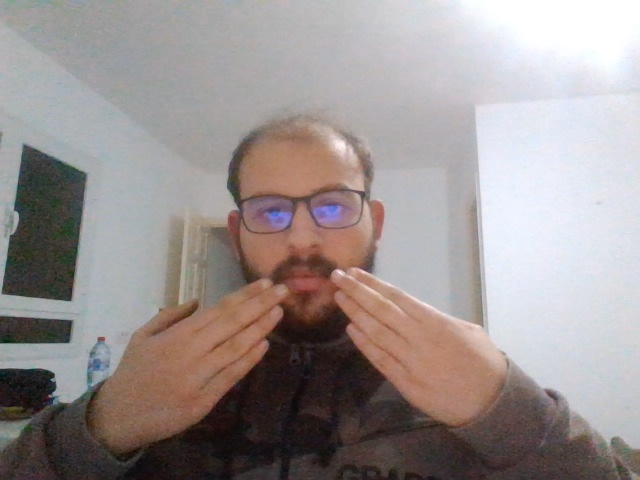Thank You: (121, 273, 484, 435)
